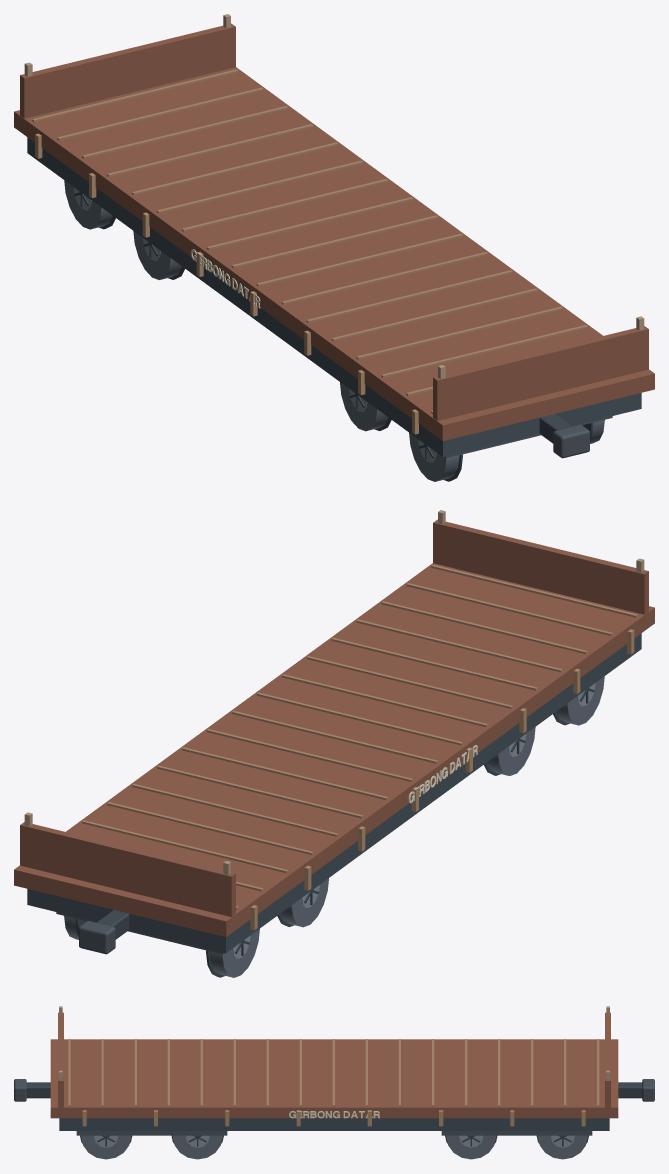
File: freight-wagon-0-blue.glb
3 views of the same model, one above another, from view 1: azimuth 30°, elevation 25°; view 2: azimuth 150°, elevation 25°; view 3: azimuth 270°, elevation 25° (orthographic). The views are drawn at different scales.
Parts seen in each view (by area): view 1: static-9--57, static-9--54, freight-wagon-0, static-9--38, rail-wheel-wagon-3.15-0.79--1, rail-wheel-wagon-3.15--0.79--1, rail-wheel-wagon--3.15-0.79--1, rail-wheel-wagon--3.15--0.79--1, static-9--18; view 2: static-9--57, static-9--54, freight-wagon-0, static-9--38, rail-wheel-wagon--3.15--0.79--1, rail-wheel-wagon--3.15-0.79--1, rail-wheel-wagon-3.15--0.79--1, rail-wheel-wagon-3.15-0.79--1, static-9--18; view 3: static-9--57, freight-wagon-0, static-9--54, static-9--55, rail-wheel-wagon--3.15-0.79-1, rail-wheel-wagon-3.15--0.79-1, rail-wheel-wagon--3.15--0.79-1, rail-wheel-wagon-3.15-0.79-1, static-9--19, static-9--38, static-9--18, static-9--23.
Part boxes in pixels (x1,y1,x2,y2): static-9--57: (14, 23, 654, 440); static-9--54: (32, 69, 587, 413); freight-wagon-0: (27, 137, 641, 457); static-9--38: (35, 133, 418, 434); rail-wheel-wagon-3.15-0.79--1: (409, 433, 462, 481); rail-wheel-wagon-3.15--0.79--1: (340, 382, 391, 431); rail-wheel-wagon--3.15-0.79--1: (133, 231, 184, 279); rail-wheel-wagon--3.15--0.79--1: (64, 180, 115, 229); static-9--18: (553, 425, 589, 458); static-9--57: (14, 519, 654, 936); static-9--54: (82, 564, 637, 909); freight-wagon-0: (27, 633, 641, 953); static-9--38: (250, 629, 634, 930); rail-wheel-wagon--3.15--0.79--1: (206, 929, 259, 977); rail-wheel-wagon--3.15-0.79--1: (277, 878, 328, 927); rail-wheel-wagon-3.15--0.79--1: (484, 727, 535, 775); rail-wheel-wagon-3.15-0.79--1: (553, 676, 604, 725); static-9--18: (79, 921, 115, 954); static-9--57: (50, 1012, 618, 1118); freight-wagon-0: (59, 1118, 609, 1130); static-9--54: (68, 1039, 599, 1106); static-9--55: (76, 1131, 592, 1135); rail-wheel-wagon--3.15-0.79-1: (445, 1135, 497, 1159); rail-wheel-wagon-3.15--0.79-1: (171, 1135, 223, 1159); rail-wheel-wagon--3.15--0.79-1: (536, 1135, 588, 1159); rail-wheel-wagon-3.15-0.79-1: (80, 1135, 132, 1159); static-9--19: (26, 1082, 642, 1098); static-9--38: (82, 1110, 585, 1126); static-9--18: (14, 1079, 654, 1101); static-9--23: (289, 1111, 379, 1118).
Size of the model in its own units: 2.89 by 1.83 by 11.06.
